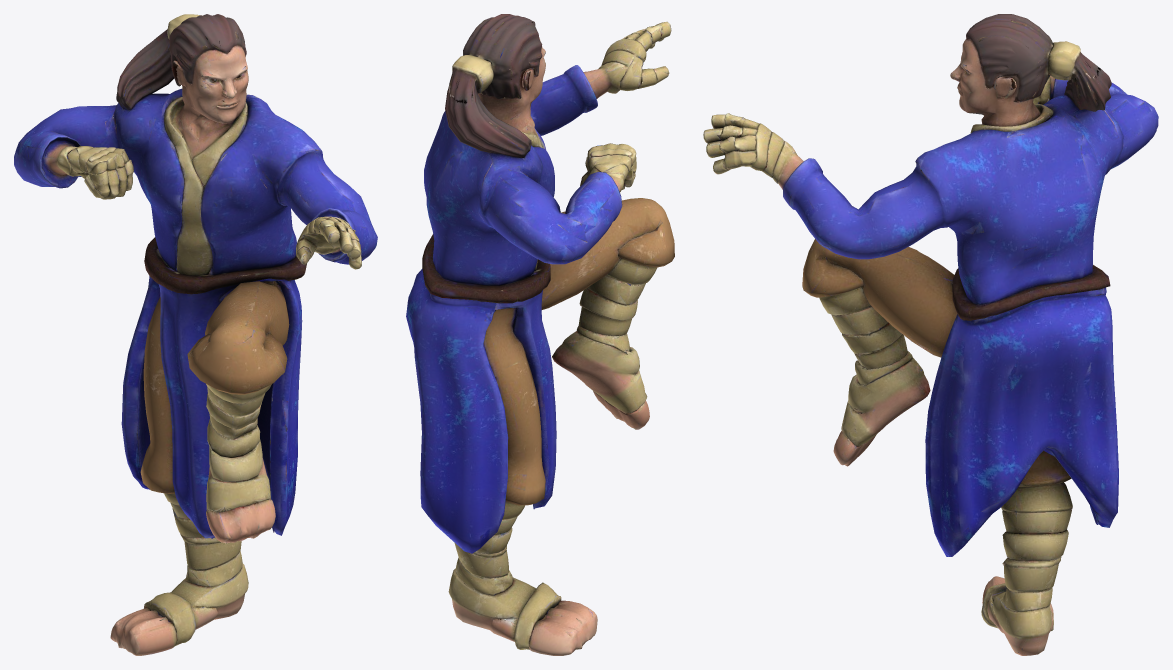
File: MZ4250 - Leosin.glb
The picture shows the model from 3 angles, left to right: view 1: azimuth 30°, elevation 25°; view 2: azimuth 150°, elevation 25°; view 3: azimuth 270°, elevation 25°; orthographic projection. The views are drawn at different scales.
Parts seen in each view (by area): view 1: default; view 2: default; view 3: default.
Part boxes in pixels (left/top/right/bottom): default: left=14, top=14, right=377, bottom=655; default: left=406, top=14, right=674, bottom=655; default: left=703, top=14, right=1158, bottom=655.
Bounding box in the file's own units: 0.4356 × 1.07 × 0.6977.
Materials: 1 (1 with a texture image).
